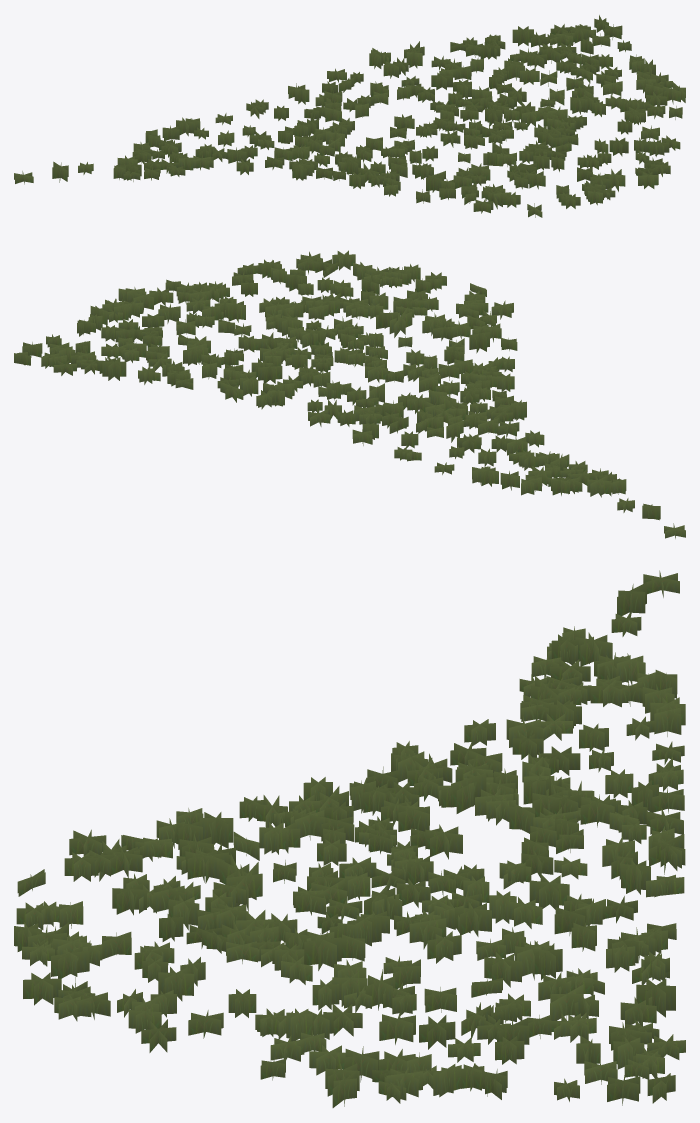
File: TRB8-GRASS-CHUNK-0-6.glb
3 renders of one model, top to bottom at view 1: azimuth 30°, elevation 25°; view 2: azimuth 150°, elevation 25°; view 3: azimuth 270°, elevation 25°, orthographic. The views are drawn at different scales.
Parts seen in each view (by area): view 1: TRB8-GRASS-CHUNK-0-6; view 2: TRB8-GRASS-CHUNK-0-6; view 3: TRB8-GRASS-CHUNK-0-6.
Part boxes in pixels (box(x1,y1,x2,y2)): TRB8-GRASS-CHUNK-0-6: box(14, 15, 685, 217); TRB8-GRASS-CHUNK-0-6: box(14, 250, 685, 538); TRB8-GRASS-CHUNK-0-6: box(14, 570, 685, 1107).
Bounding box in the file's own units: 19.86 × 1.41 × 10.36.
1 material, 1 textured.
